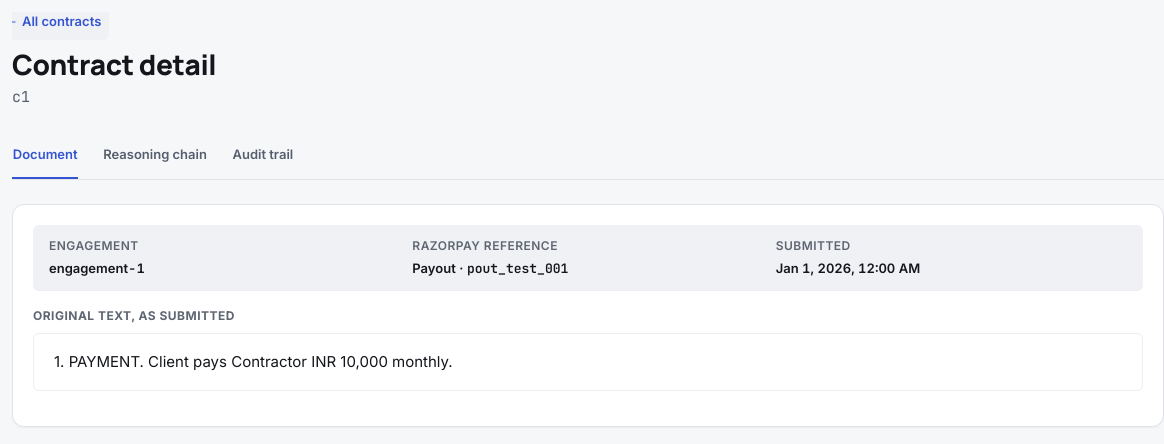
Test: ContractDetailPage › shows the reasoning chain in sequence order once that tab is selected
Click the tab "Reasoning chain": (155, 156) [102, 133, 208, 179]
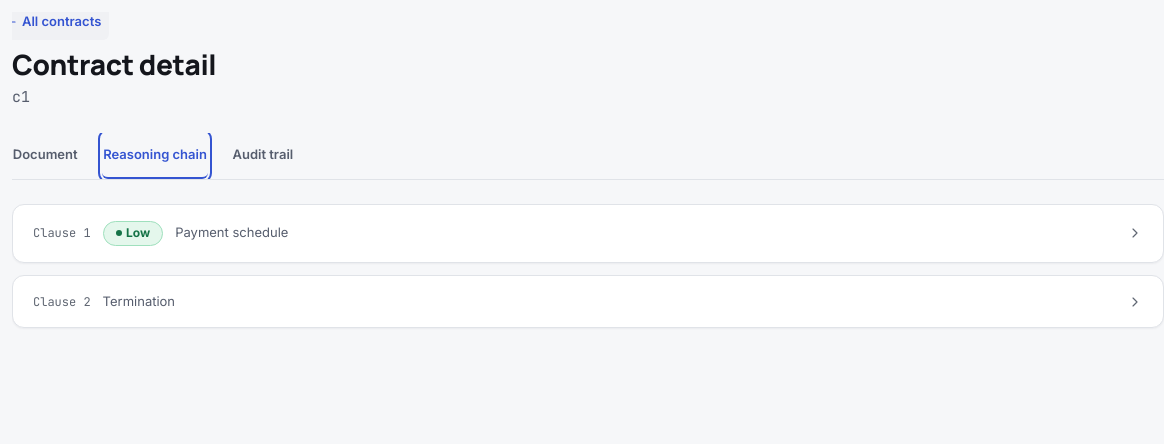
Check: the list with test id "clause-chain" is shown, box [12, 204, 1163, 328]
Check: the text "Clause 1" is shown, box [33, 224, 91, 242]
Check: the text "Clause 2" is shown, box [33, 292, 91, 310]
